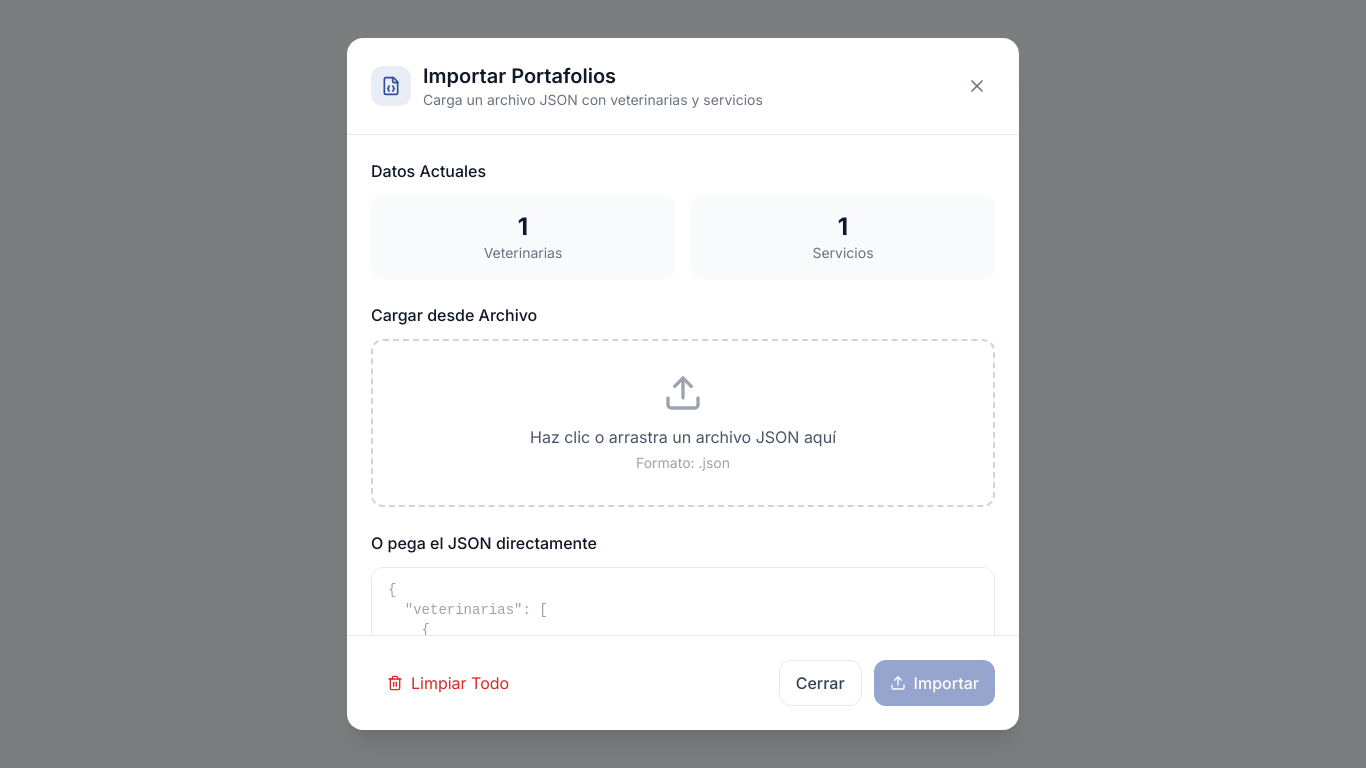
Test: ImportModal › debería cancelar limpieza al hacer clic en Cancelar
The image size is (1366, 768).
Click the button "Limpiar Todo" at (448, 683), box [371,663,525,703]
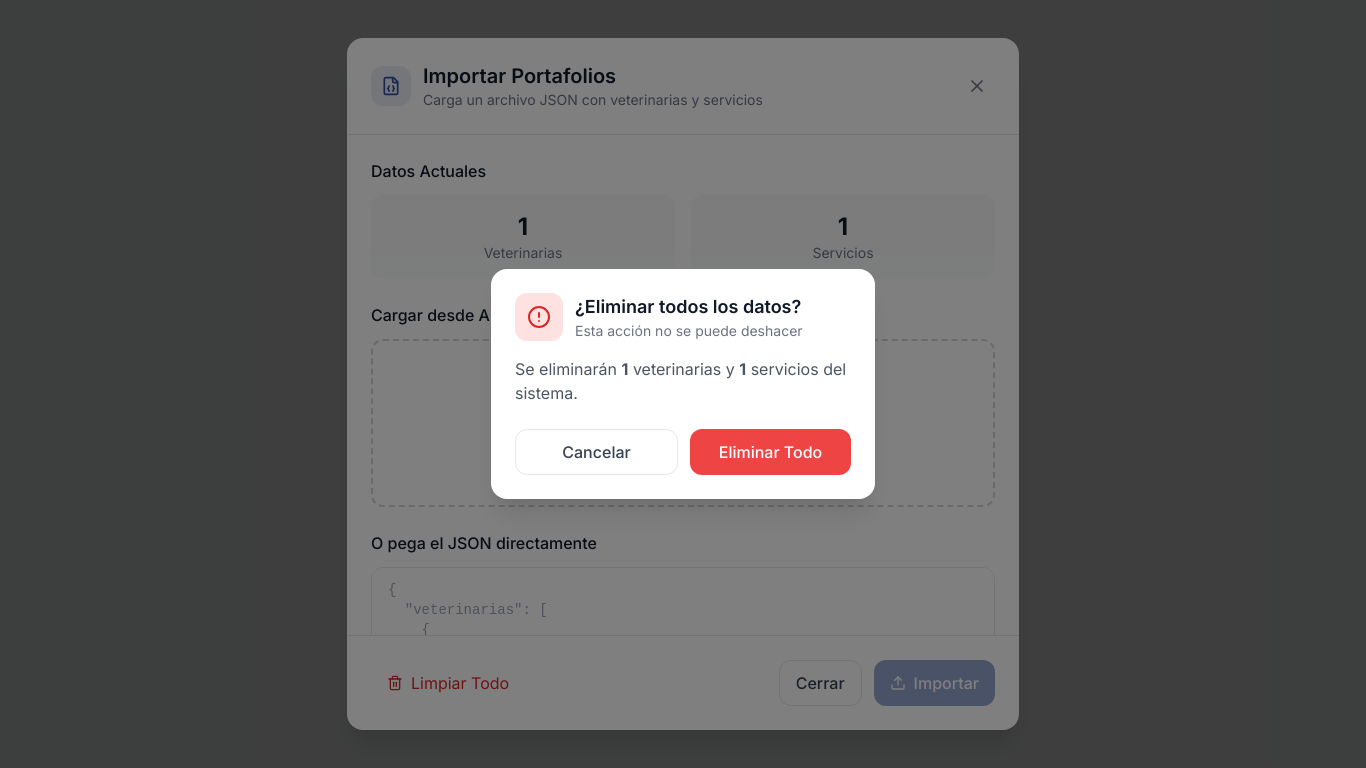
Click the button "Cancelar" at (596, 452), box [515,429,678,475]
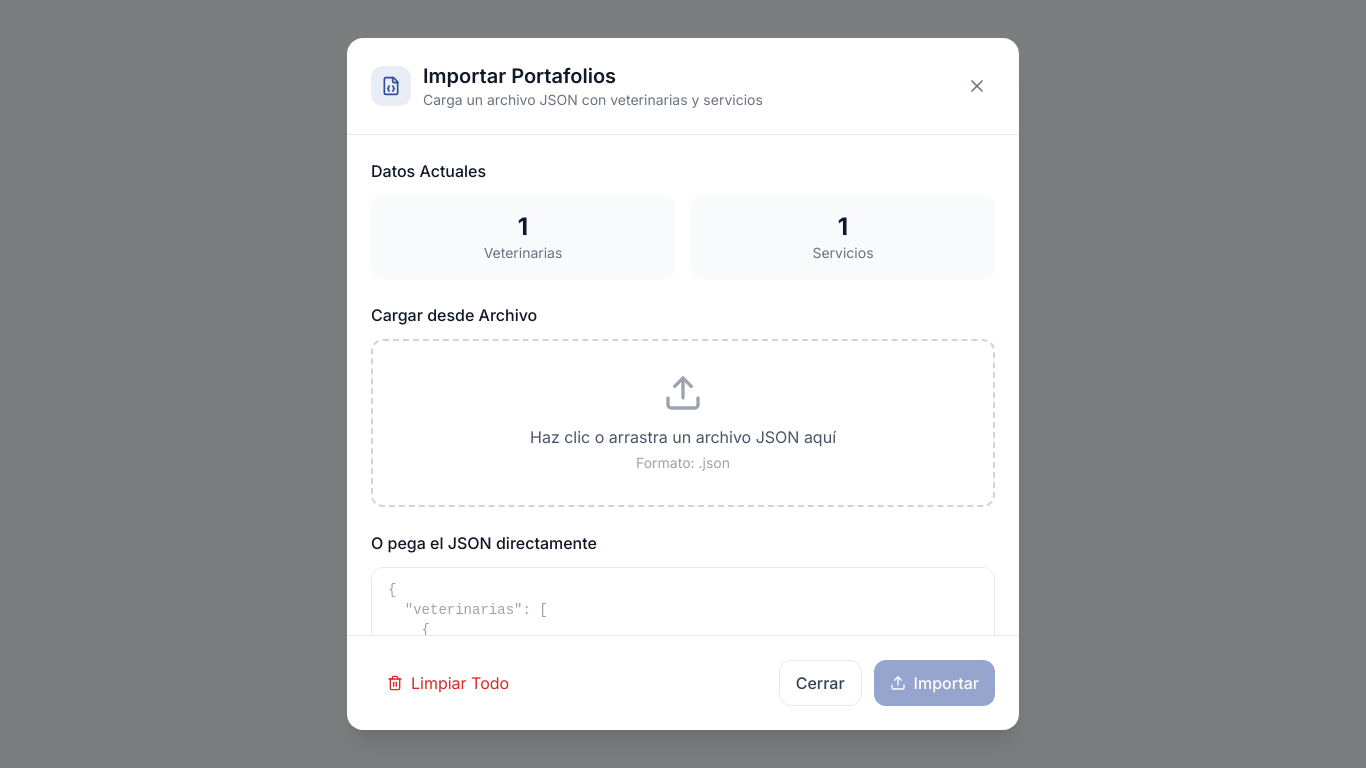
Now the heading "¿Eliminar todos los datos?" is gone
